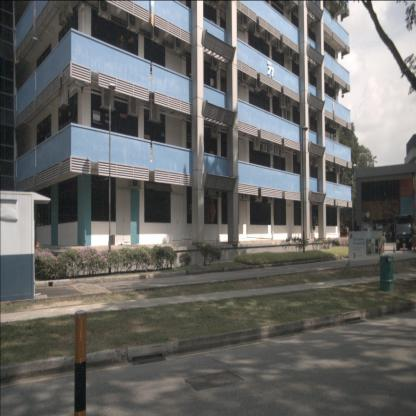human-pedestrian-adult: (382, 230, 386, 242), (389, 231, 392, 242)
movable_object-trafficcone: (412, 242, 416, 253), (382, 243, 386, 253), (392, 243, 396, 253), (402, 243, 406, 253)
vehicle-truck: (394, 214, 412, 250)
